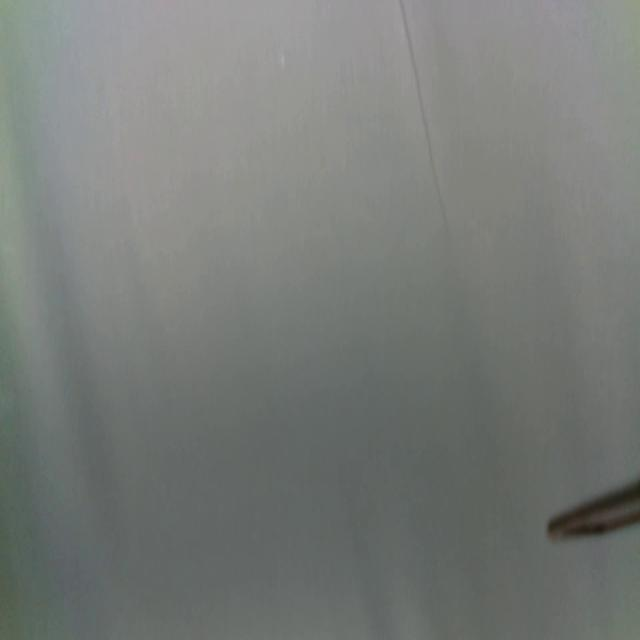crease: (400, 2, 452, 245)
